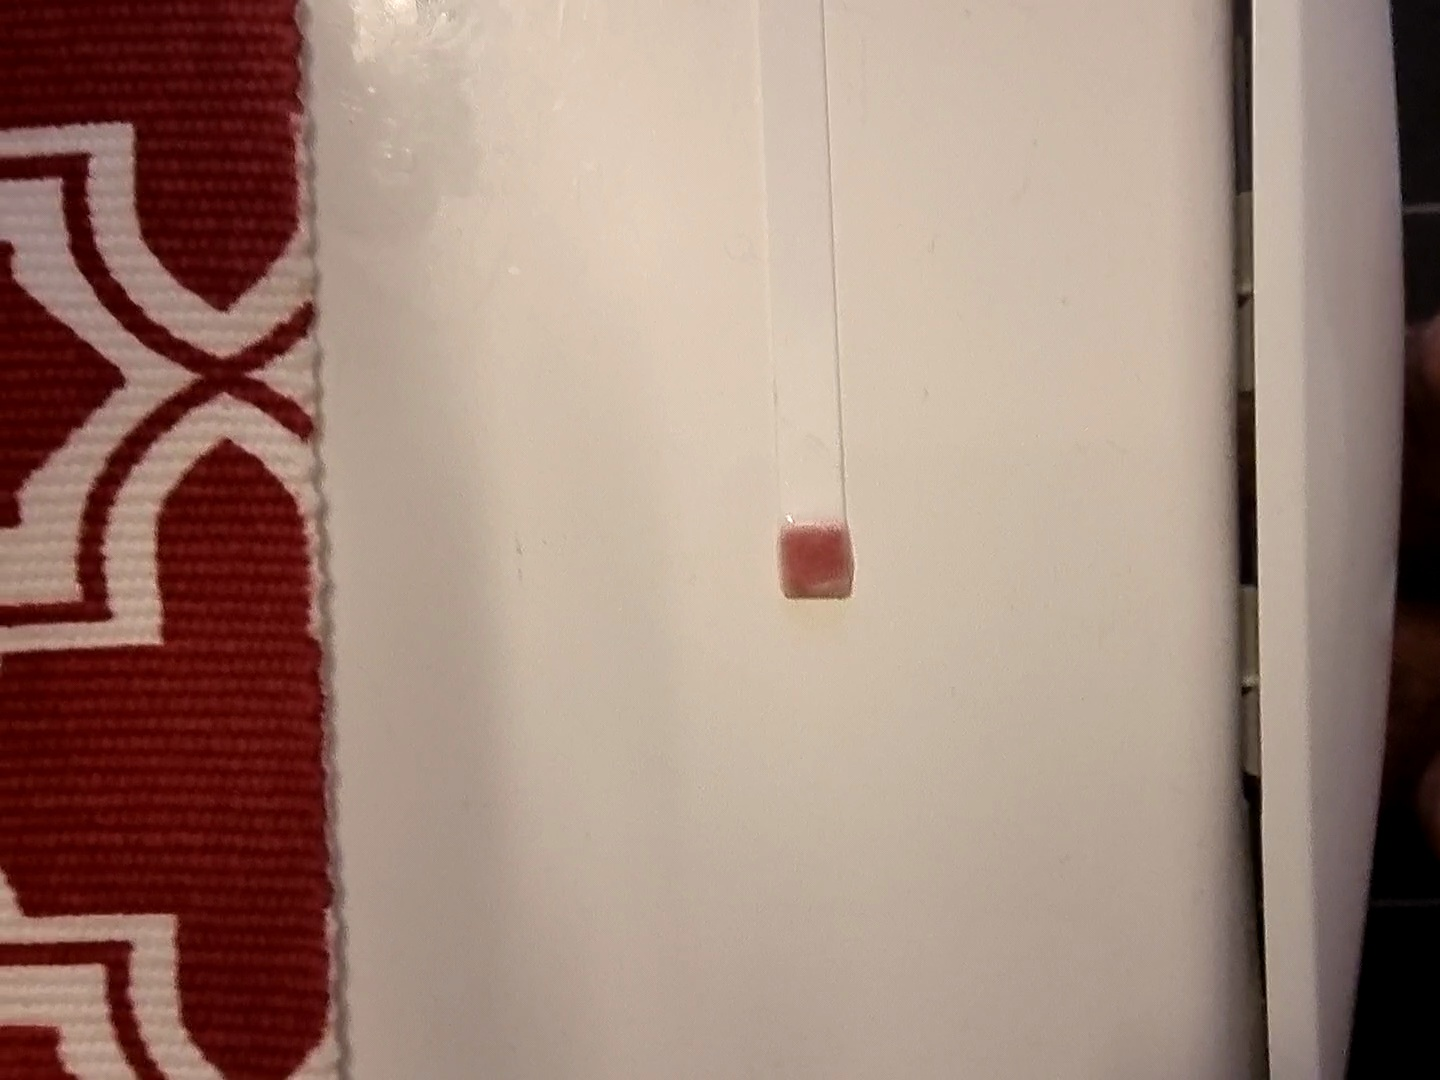keto-tip: (772, 518, 859, 602)
